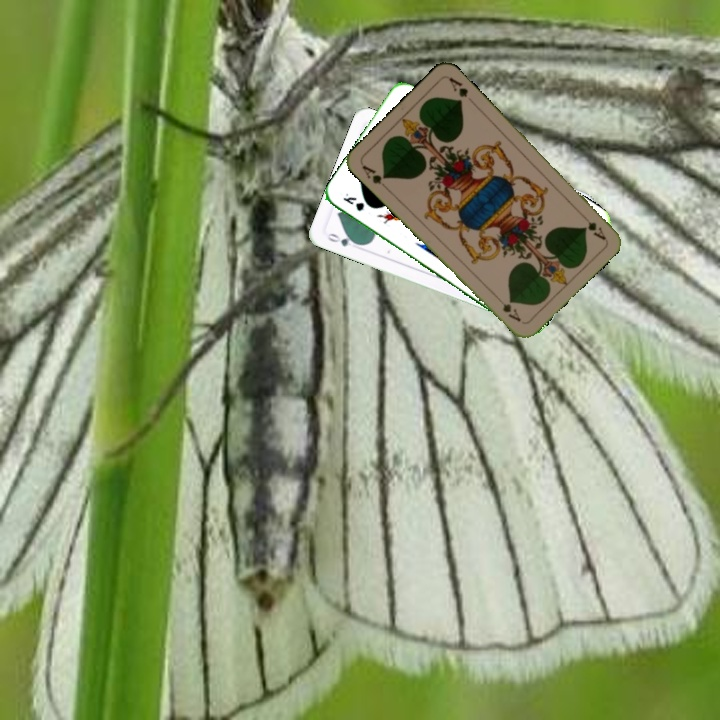GA: (577, 209, 608, 243), (358, 161, 391, 192)
GK: (339, 189, 367, 214)
GO: (323, 229, 363, 249)
